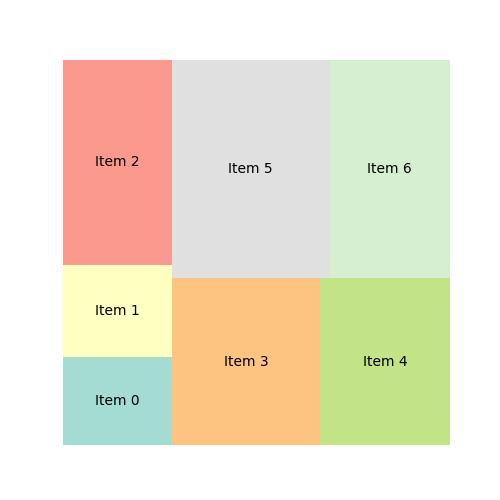rectangle: (172, 59, 330, 277), (329, 59, 450, 279), (171, 277, 321, 446), (64, 61, 172, 263), (321, 277, 449, 446), (62, 263, 171, 357), (61, 355, 172, 445)
